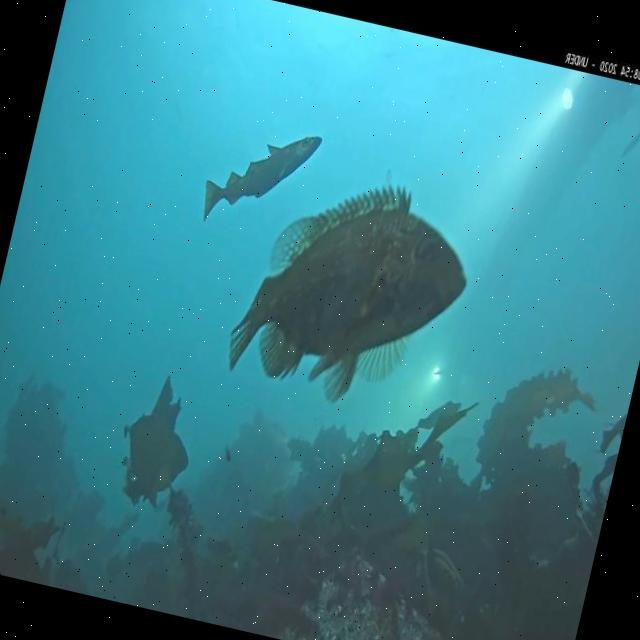fish: (221, 156, 486, 428), (197, 112, 323, 242), (622, 119, 640, 158)
